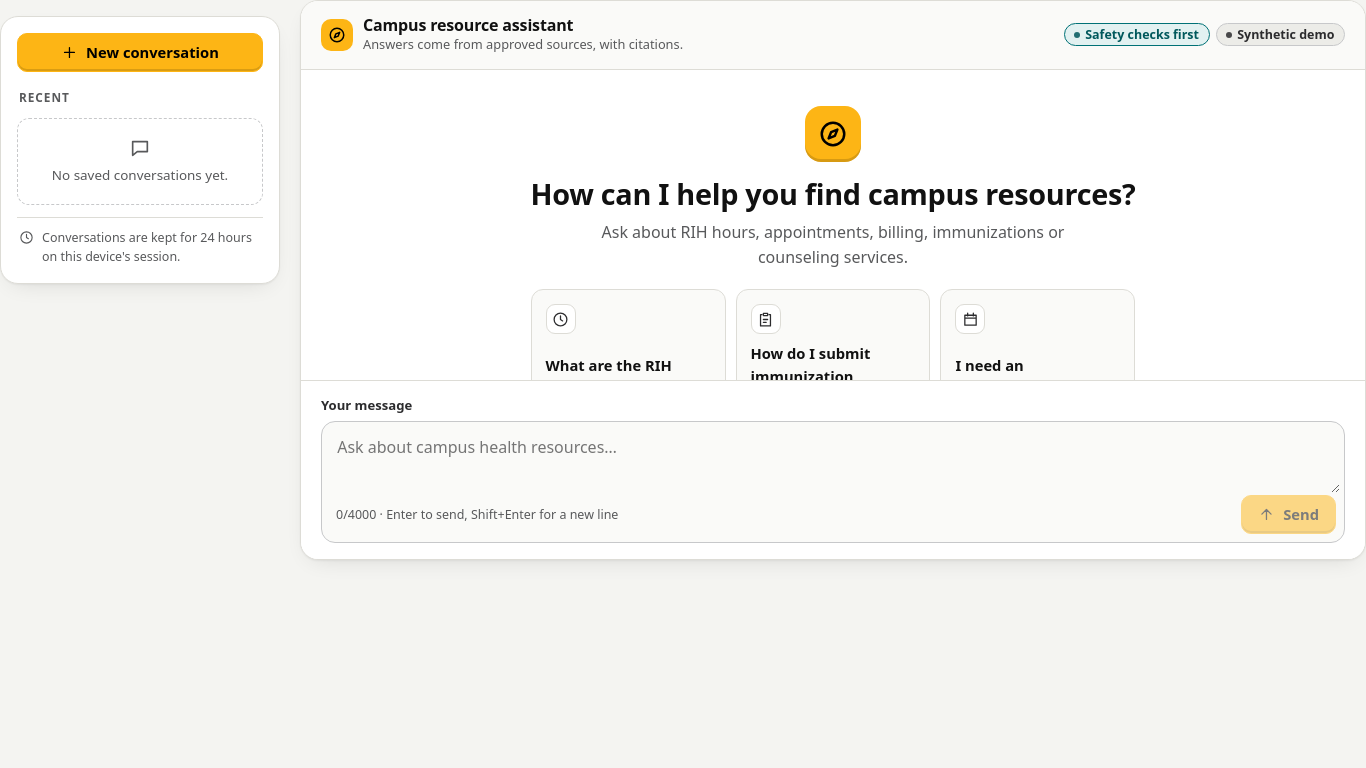
Scenario: ChatView › renders safety guidance as a distinct alert without citations or feedback suppression
Type "synthetic crisis test message" into the text box labelled "Your message" at (833, 460), box [326,426,1340,493]
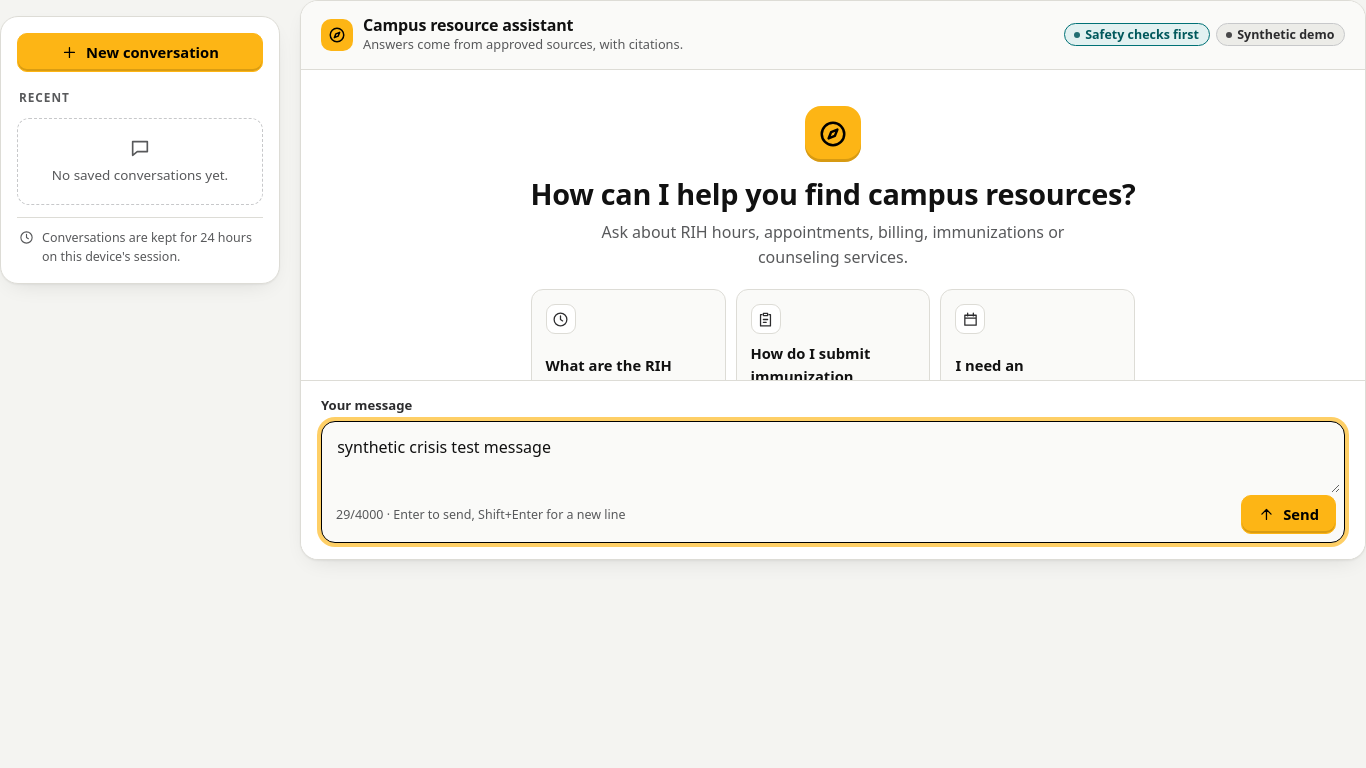
Click the button "Send" at (1289, 515), box [1241,495,1336,534]
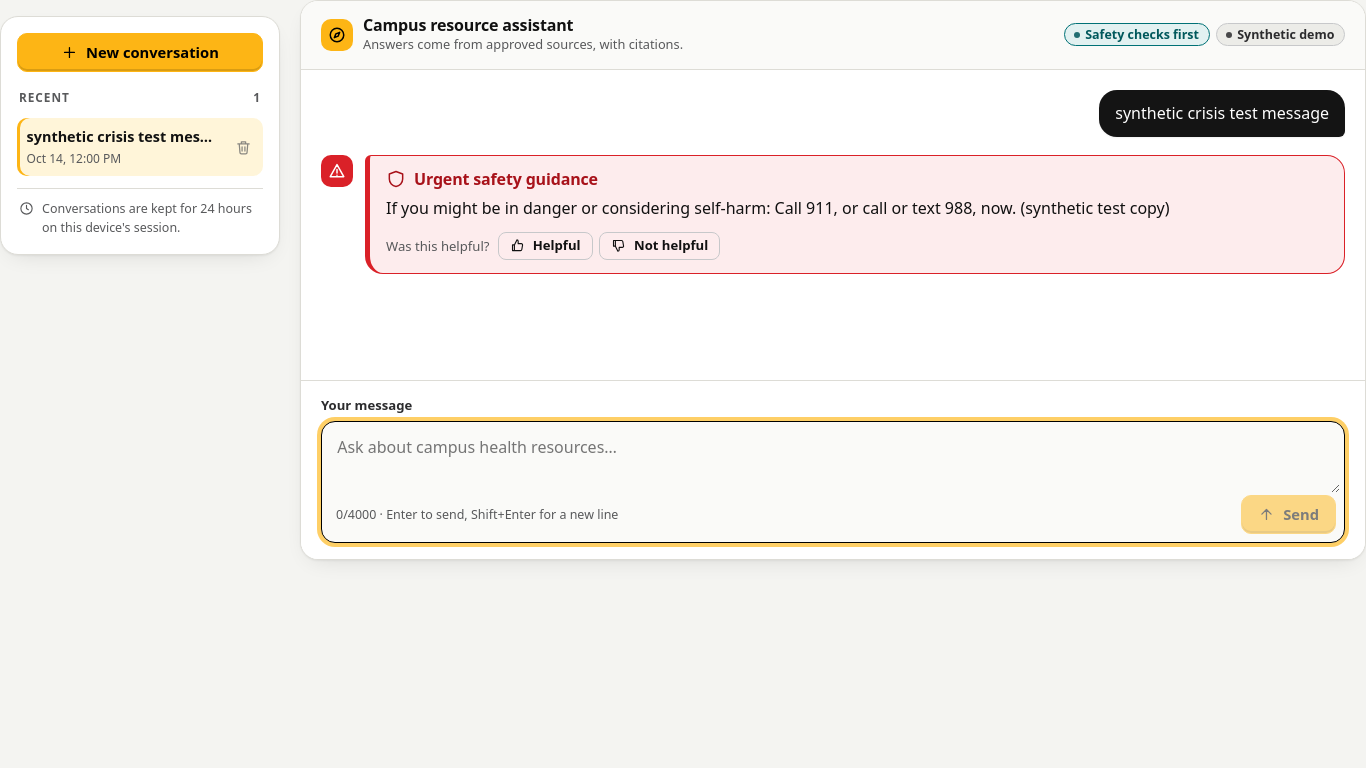
Expected: the heading "Urgent safety guidance" is shown, [386,168,598,190]
Expected: the text "If you might be in danger or considering self-harm: Call 911, or call or text 988, now. (synthetic test copy)" is shown, [386,197,1170,219]
